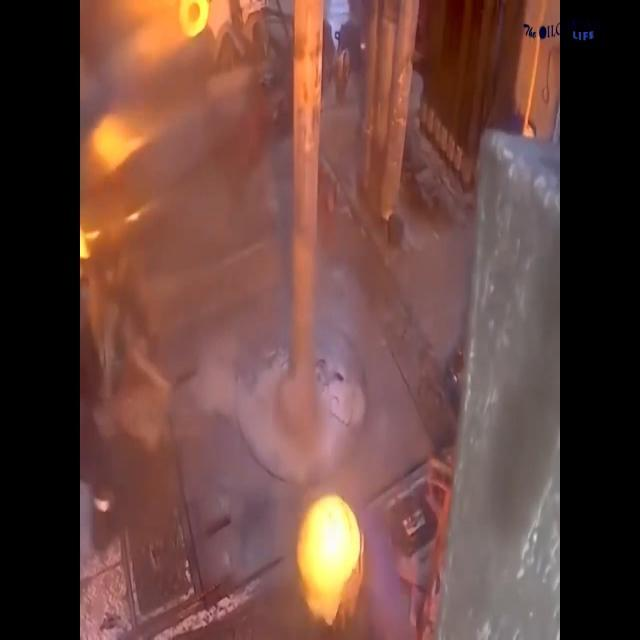spillage: (185, 331, 366, 481)
